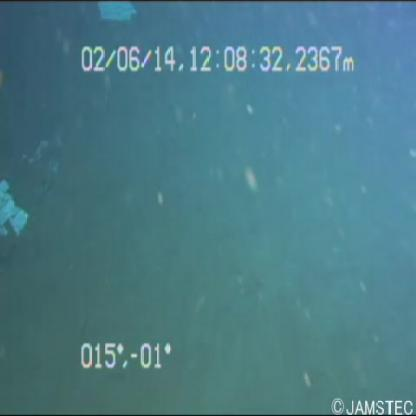Rác: (1, 173, 29, 246)
